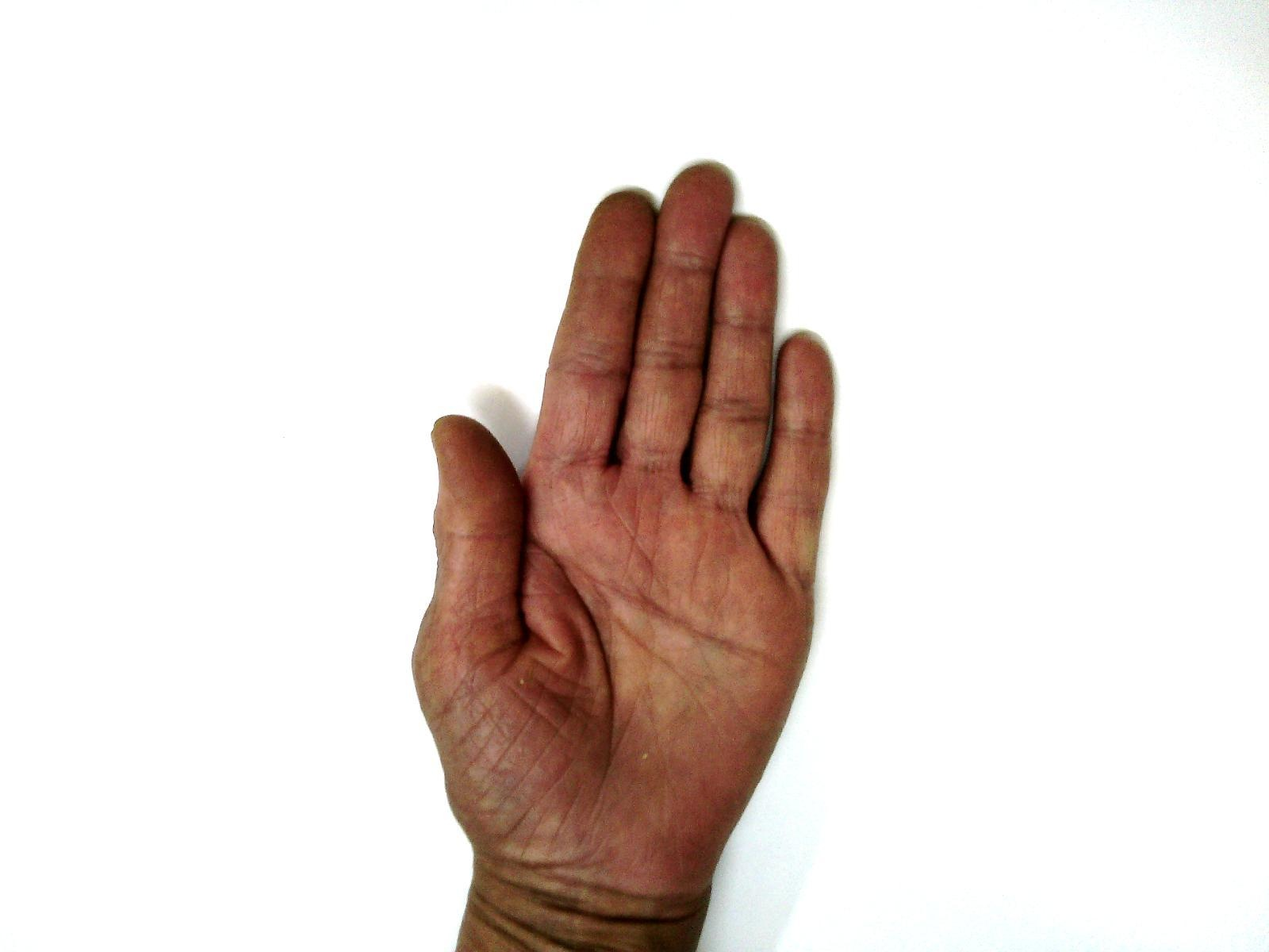open_palm: (409, 160, 840, 903)
